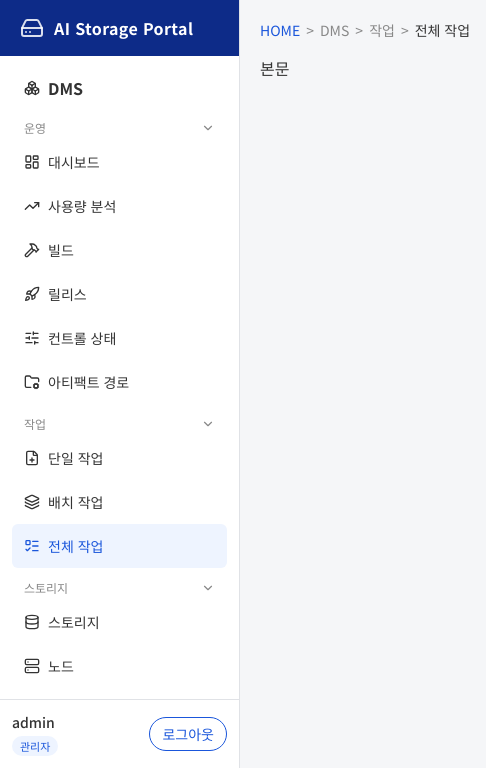
열린 그룹 헤더 재클릭은 닫고, 다시 클릭이 복원한다 -- 다른 그룹은 무영향
Expected: the button "운영" is shown, [12,108,227,140]
Expected: the link "대시보드" is shown, [24,152,100,172]
Click the button "작업" at point(120, 420), box [12,404,227,436]
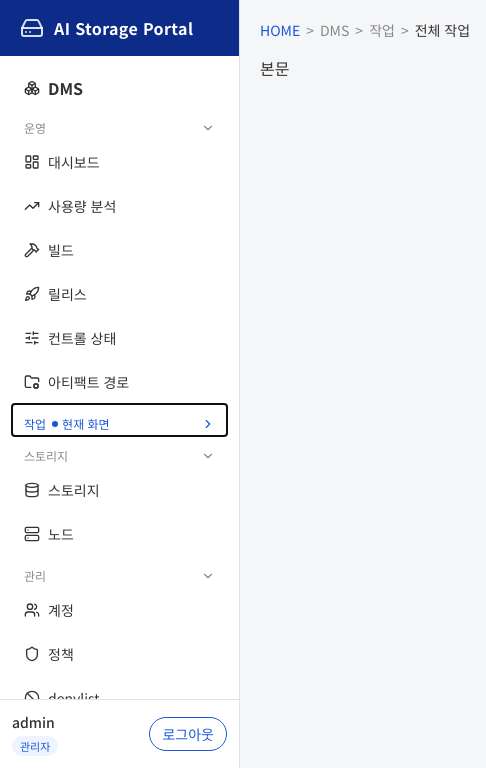
Expected: the link "대시보드" is shown, [24,152,100,172]
Expected: the link "단일 작업" is gone
Click the button "작업 현재 화면" at point(120, 420), box [12,404,227,436]
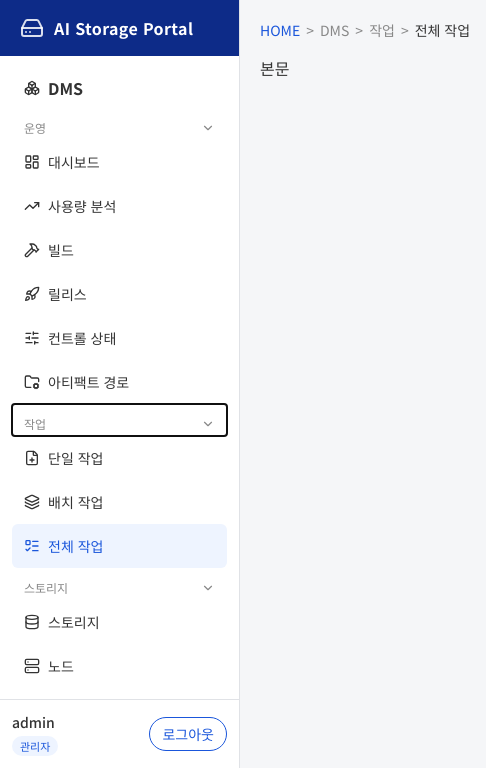
Expected: the link "단일 작업" is shown, [24,448,104,468]
